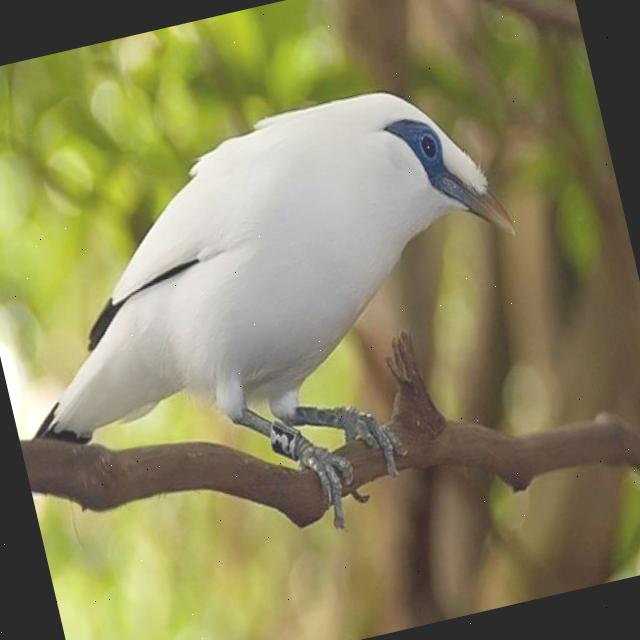Jalak Bali: (0, 30, 597, 617)
